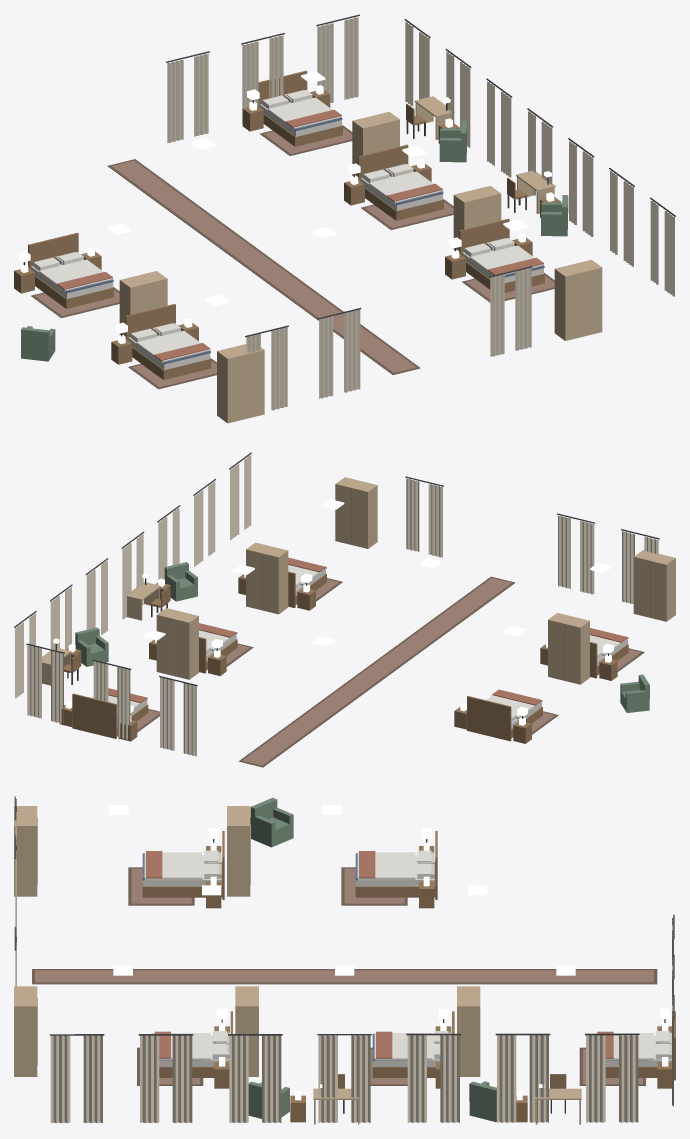
Rendered from fine-s1.glb.
3 views of the same model, one above another, from view 1: azimuth 30°, elevation 25°; view 2: azimuth 150°, elevation 25°; view 3: azimuth 270°, elevation 25° (orthographic). The views are drawn at different scales.
Parts seen in each view (by area): view 1: soft-s1, dresser.004, dresser.001, bed-frame.001, bed-frame.000, bed-frame.003, bed-frame.002, bed-frame.004, dresser.000, dresser.003, dresser.002, lounge-chair.000 (+4 smaller); view 2: soft-s1, dresser.001, dresser.003, dresser.004, dresser.002, dresser.000, bed-frame.000, bed-frame.002, lounge-chair.002, lounge-chair.001, lounge-chair.000, writing-desk.001 (+4 smaller); view 3: soft-s1, dresser.000, dresser.004, dresser.001, dresser.002, lounge-chair.000, bed-frame.000, dresser.003, bed-frame.001, lounge-chair.001, bed-frame.003, bed-frame.002 (+3 smaller).
Boxes of the visible parts, x1,y1,x2,y2 form: soft-s1: (18,14,675,410); dresser.004: (554,259,602,340); dresser.001: (217,344,264,423); bed-frame.001: (125,304,211,379); bed-frame.000: (28,232,113,308); bed-frame.003: (358,144,443,220); bed-frame.002: (258,70,342,146); bed-frame.004: (459,218,544,292); dresser.000: (119,271,167,335); dresser.003: (453,185,501,250); dresser.002: (352,111,399,176); lounge-chair.000: (21,326,55,361); soft-s1: (14,452,659,767); dresser.001: (633,550,675,621); dresser.003: (246,542,288,614); dresser.004: (335,477,377,548); dresser.002: (156,608,198,679); dresser.000: (548,613,589,684); bed-frame.000: (467,696,542,741); bed-frame.002: (72,693,148,738); lounge-chair.002: (164,562,197,601); lounge-chair.001: (75,627,108,666); lounge-chair.000: (620,674,649,712); writing-desk.001: (127,573,160,620); soft-s1: (14,796,674,1123); dresser.000: (227,806,250,896); dresser.004: (14,986,37,1076); dresser.001: (14,806,37,896); dresser.002: (457,986,480,1076); lounge-chair.000: (250,797,293,847); bed-frame.000: (355,831,437,899); dresser.003: (235,986,258,1076); bed-frame.001: (142,831,224,899); lounge-chair.001: (469,1081,496,1121); bed-frame.003: (372,1011,454,1077); bed-frame.002: (605,1011,675,1080).
Bounding box in the file's own units: 17.93 × 2.56 × 16.97.
